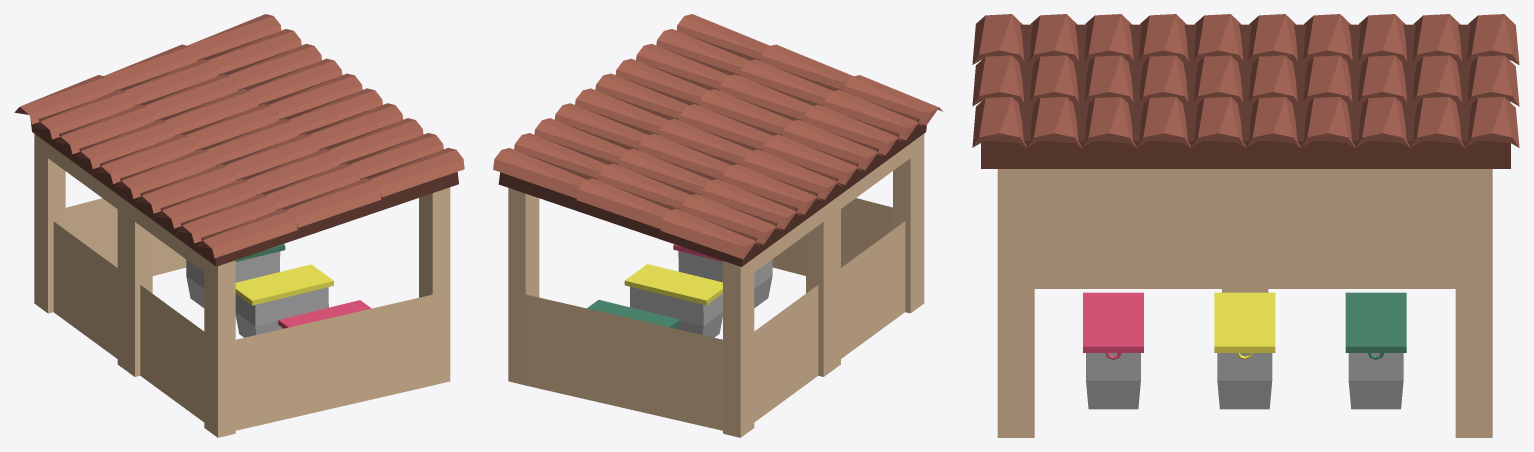
File: Compost_Shed.fbx
3 views of the same model, side by side, from view 1: azimuth 30°, elevation 25°; view 2: azimuth 150°, elevation 25°; view 3: azimuth 270°, elevation 25° (orthographic). The views are drawn at different scales.
Visible parts, largest first — view 1: Roof.001; view 2: Roof.001; view 3: Roof.001.
Boxes of the visible parts, bbox=[...] form: Roof.001: bbox=[14, 14, 464, 437]; Roof.001: bbox=[493, 14, 942, 437]; Roof.001: bbox=[972, 14, 1519, 437].
Bounding box in the file's own units: 736 × 644 × 1033.
